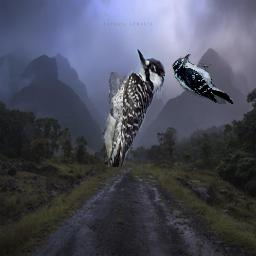Woodpecker: (93, 45, 166, 168), (172, 54, 235, 104)
